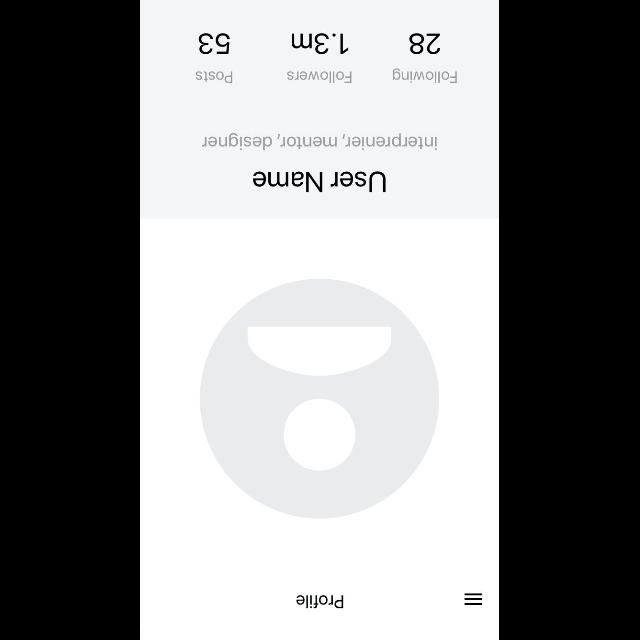icon: (464, 593, 482, 605)
image: (199, 278, 439, 518)
text: (202, 132, 438, 152), (252, 171, 386, 193), (292, 33, 348, 55), (392, 68, 458, 84), (286, 71, 352, 83), (199, 33, 231, 55), (296, 595, 344, 609), (410, 34, 442, 54), (195, 71, 232, 83)
